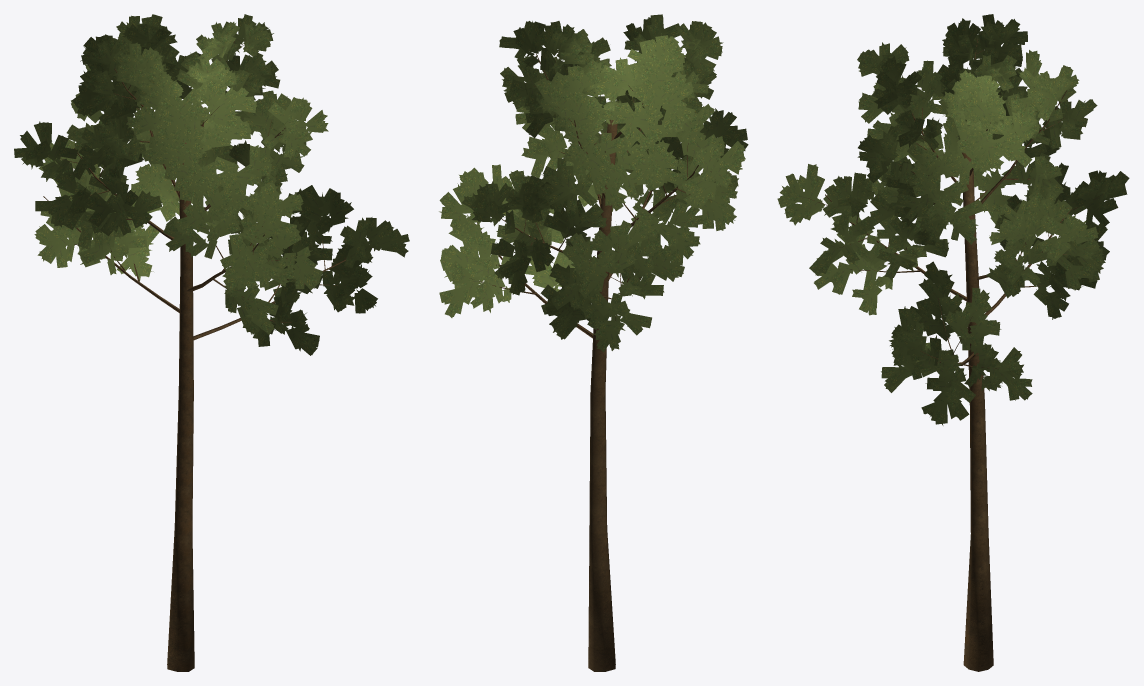
The model's file is pine_open_v03_LOD1.fbx.
3 renders of one model, left to right at view 1: azimuth 30°, elevation 25°; view 2: azimuth 150°, elevation 25°; view 3: azimuth 270°, elevation 25°, orthographic. The views are drawn at different scales.
Visible parts, largest first — view 1: pine_open_v03_LOD1; view 2: pine_open_v03_LOD1; view 3: pine_open_v03_LOD1.
Part boxes in pixels (box(x1,y1,x2,y2)): pine_open_v03_LOD1: box(14, 14, 409, 671); pine_open_v03_LOD1: box(439, 14, 748, 671); pine_open_v03_LOD1: box(777, 14, 1129, 671).
Size of the model in its own units: 1532 by 1443 by 2807.
2 materials, 2 textured.
